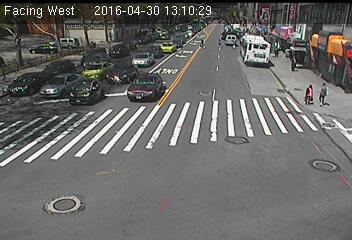neg: (241, 34, 259, 58), (11, 56, 25, 74), (104, 28, 115, 44), (37, 49, 47, 61)
pos: (314, 79, 335, 108), (299, 81, 317, 105), (286, 53, 302, 75)
